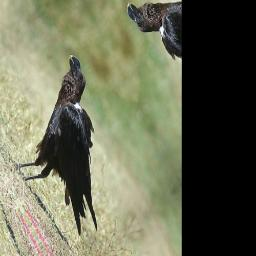Crow: (0, 50, 146, 256)
